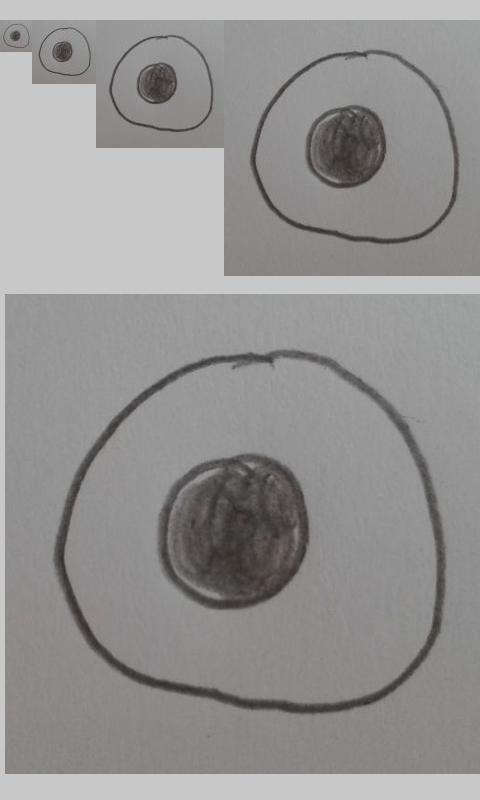radio_button: (51, 347, 447, 719), (248, 47, 462, 246), (109, 34, 215, 133), (37, 26, 92, 77), (2, 23, 30, 49)
